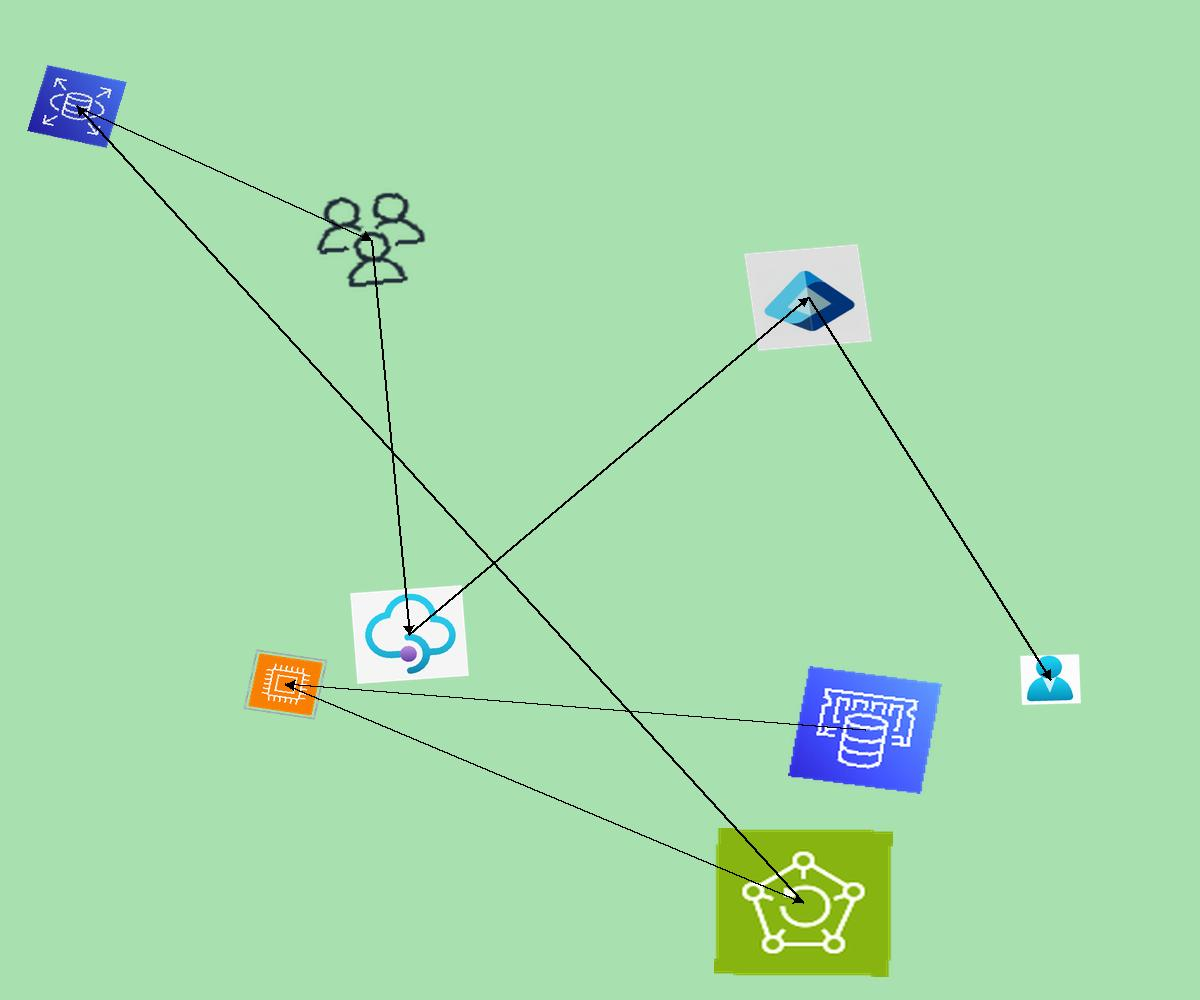AWS-Backup: (714, 828, 893, 977)
AWS-Category_Compute: (243, 649, 328, 720)
AWS-ElastiCache: (788, 666, 942, 794)
AWS-RDS: (27, 65, 127, 148)
AWS-Res_Users: (305, 185, 437, 295)
Azure_api_gateway: (350, 585, 469, 684)
Azure_microsoft_entra: (744, 244, 872, 351)
Azure_users: (1020, 654, 1081, 705)
